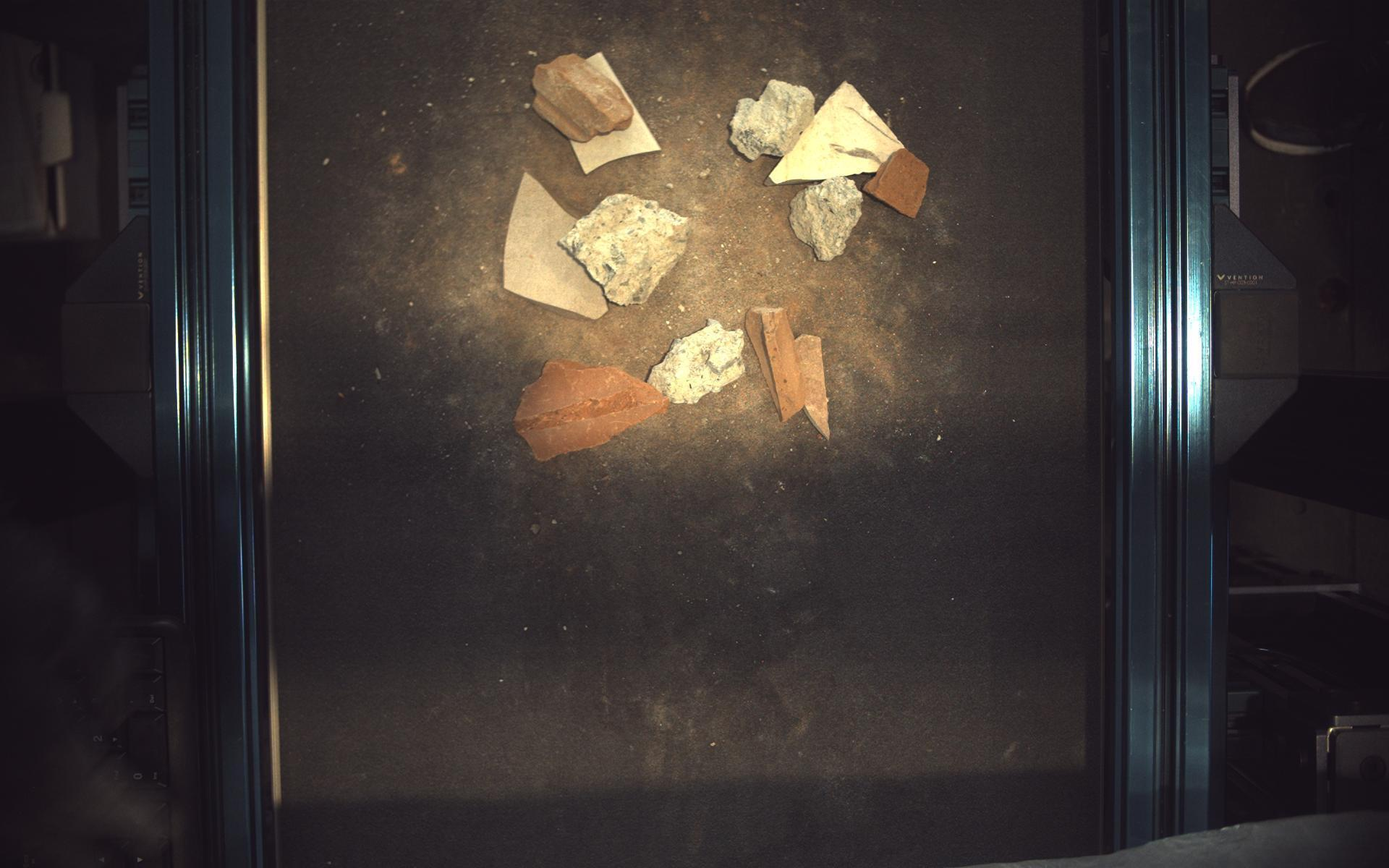brick: (514, 360, 669, 461), (533, 53, 634, 142), (747, 307, 807, 422), (865, 146, 931, 217)
concrete: (558, 193, 690, 305), (649, 320, 746, 404), (731, 78, 816, 160), (791, 176, 864, 260)
tile: (504, 172, 608, 319), (770, 80, 905, 183), (572, 51, 661, 172), (796, 334, 832, 440)
